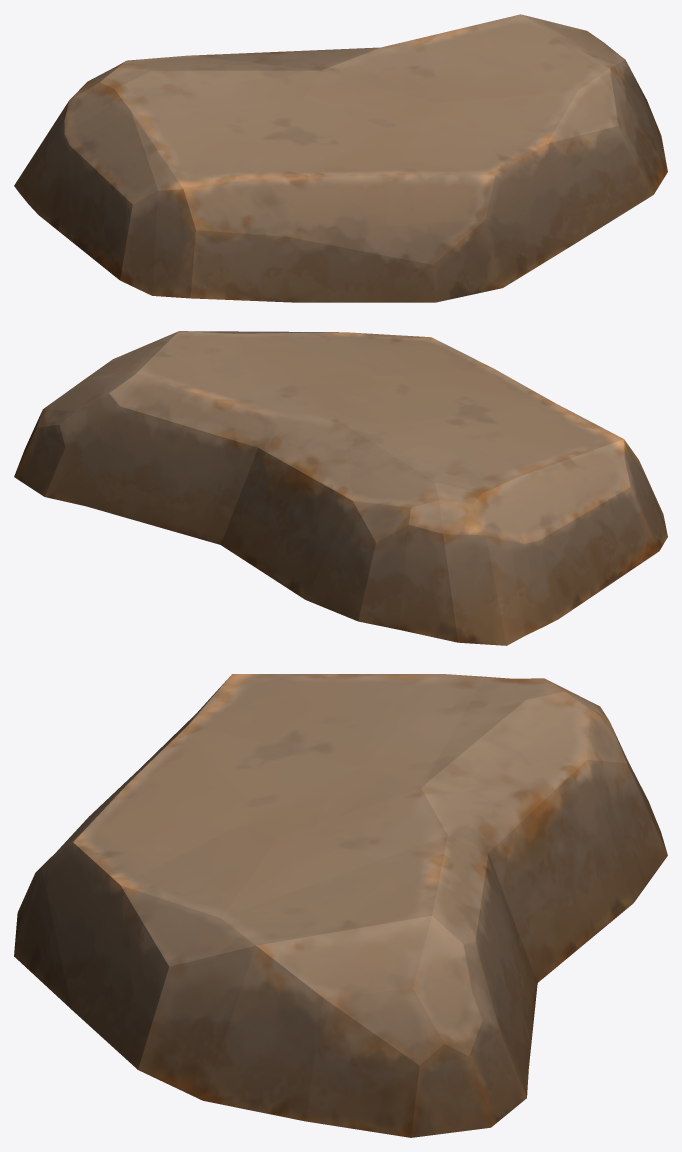
The model's file is DesertPebble_Round_1.obj.
3 renders of one model, top to bottom at view 1: azimuth 30°, elevation 25°; view 2: azimuth 150°, elevation 25°; view 3: azimuth 270°, elevation 25°, orthographic. The views are drawn at different scales.
Parts seen in each view (by area): view 1: DesertPebble_Round_1; view 2: DesertPebble_Round_1; view 3: DesertPebble_Round_1.
Part boxes in pixels (bbox=[...]): DesertPebble_Round_1: bbox=[14, 14, 667, 302]; DesertPebble_Round_1: bbox=[14, 331, 667, 645]; DesertPebble_Round_1: bbox=[14, 674, 667, 1137].
Size of the model in its own units: 0.5 by 0.0955 by 0.367.
Materials: 1 (1 with a texture image).
